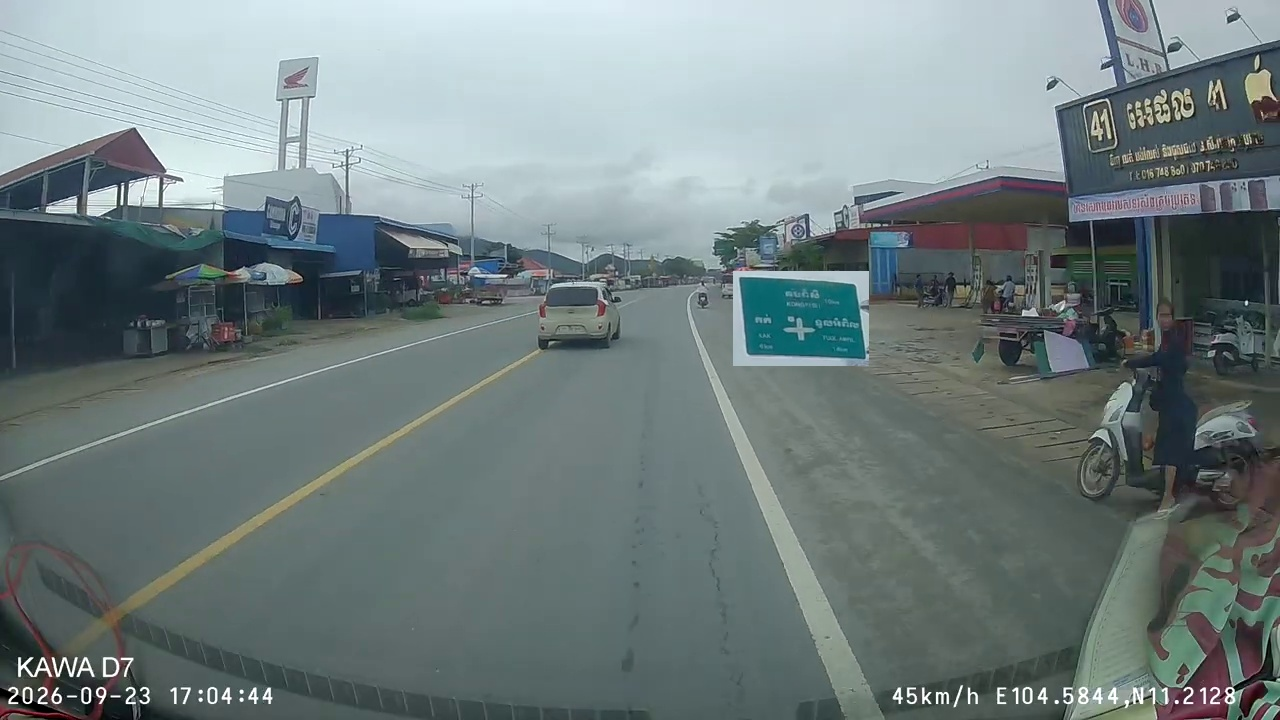direction_sign: (733, 271, 869, 366)
